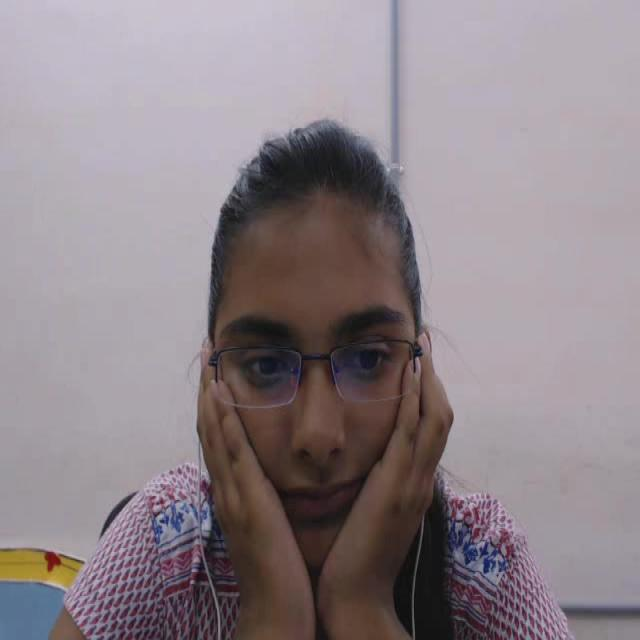Bored: (166, 83, 472, 591)
